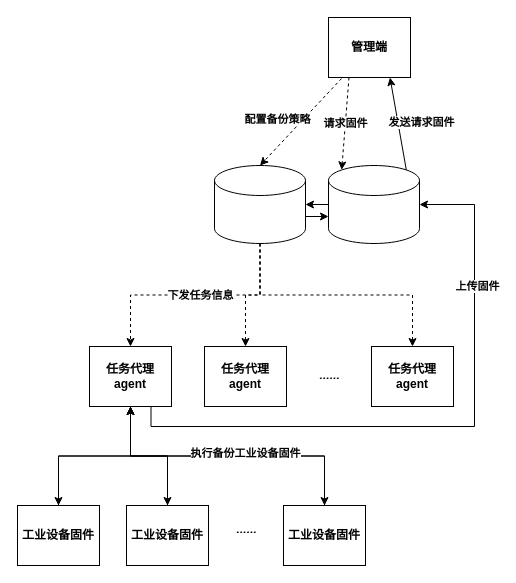
Some shapes in this 516 by 583 pixel diagram are drawn without their labels. The shapes that lost their labels are listed below. From the top down, each one's centre as x and y in pixels, then its label:
At (x=260, y=204): "策略调度器".
At (x=374, y=204): "固件管理器".
